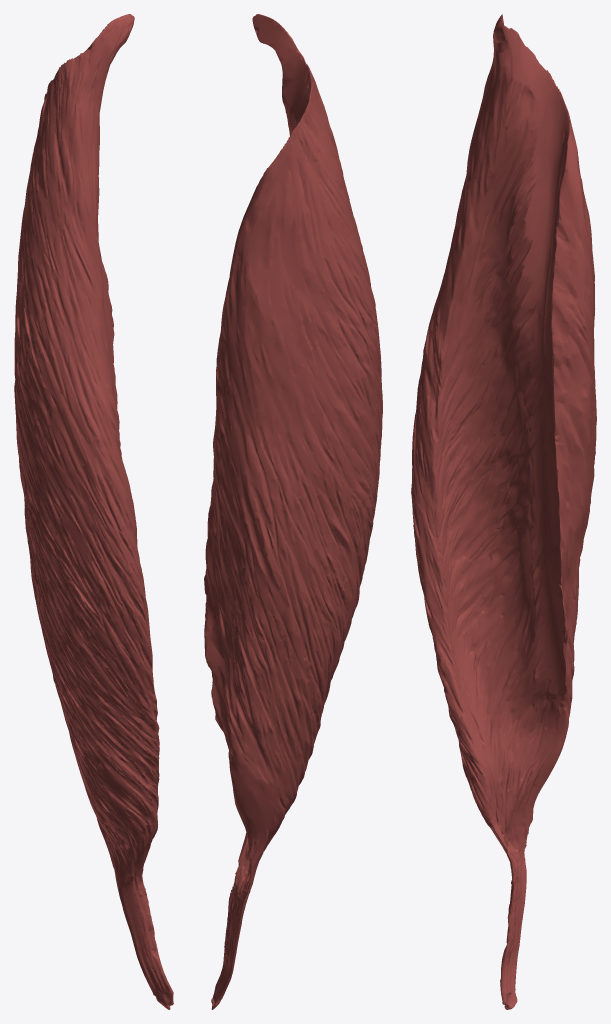
Rendered from FMA38930.glb.
3 renders of one model, left to right at view 1: azimuth 30°, elevation 25°; view 2: azimuth 150°, elevation 25°; view 3: azimuth 270°, elevation 25°, orthographic. The views are drawn at different scales.
Parts seen in each view (by area): view 1: FMA38930; view 2: FMA38930; view 3: FMA38930.
Part boxes in pixels (box(x1,y1,x2,y2)): FMA38930: box(14, 14, 173, 1009); FMA38930: box(204, 14, 382, 1009); FMA38930: box(411, 14, 596, 1009).
Bounding box in the file's own units: 0.0725 × 0.4427 × 0.0768.
